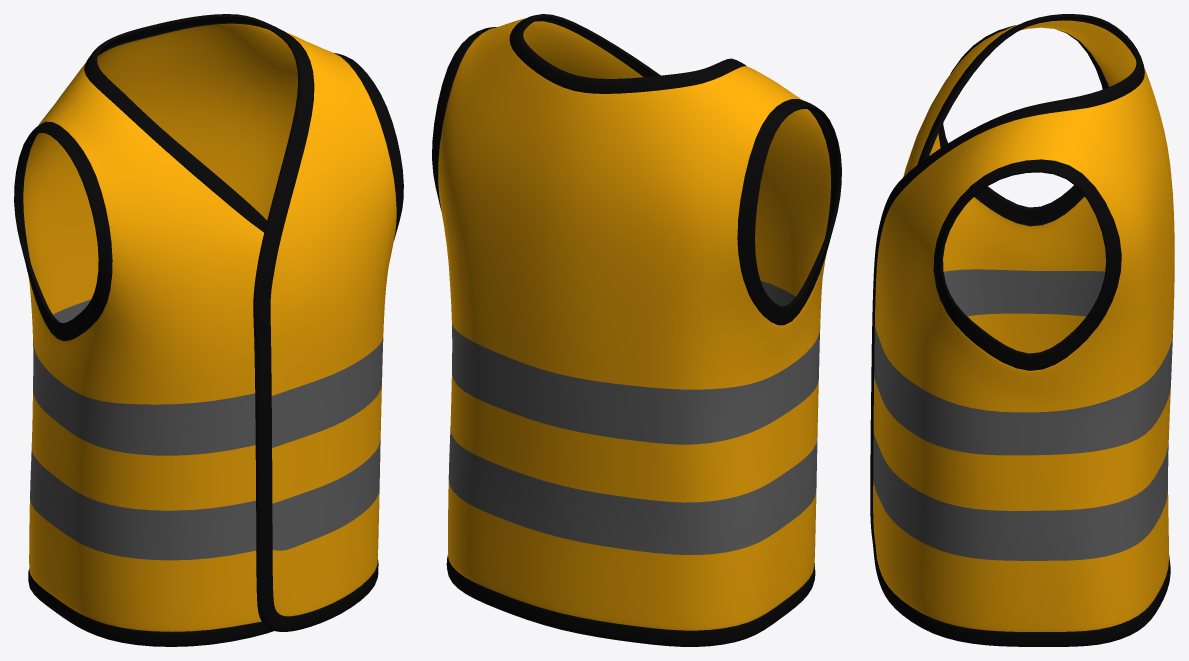
File: 安全背心.FBX
The picture shows the model from 3 angles, left to right: view 1: azimuth 30°, elevation 25°; view 2: azimuth 150°, elevation 25°; view 3: azimuth 270°, elevation 25°; orthographic projection. The views are drawn at different scales.
Visible parts, largest first — view 1: 背心; view 2: 背心; view 3: 背心.
Part boxes in pixels (x1,y1,x2,y2): 背心: (14, 14, 403, 646); 背心: (432, 14, 841, 646); 背心: (870, 14, 1174, 646).
Bounding box in the file's own units: 36.78 × 59.67 × 31.6.
